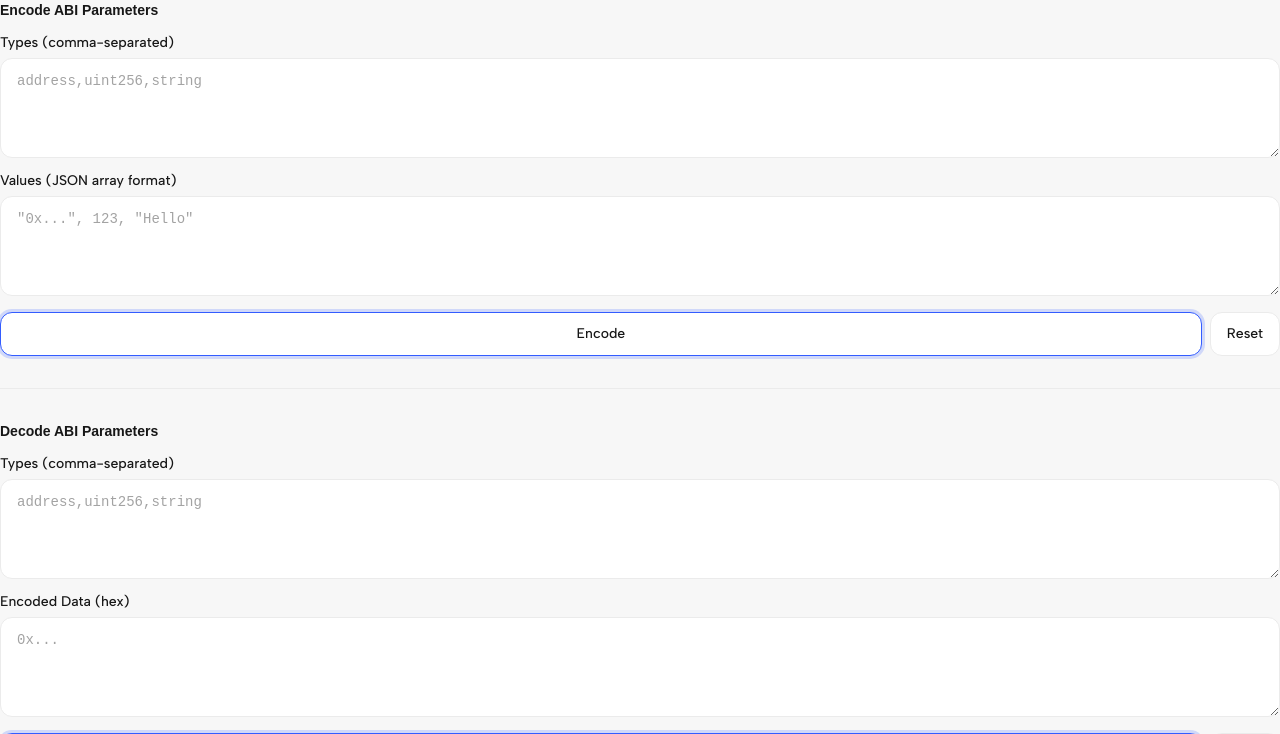
Test: AbiEncoderTool › encodes ABI parameters
Type "address,uint256" into the text box with placeholder "address,uint256,string" below "Encode ABI Parameters". click: (640, 108)
box: x1=0 y1=58 x2=1279 y2=158
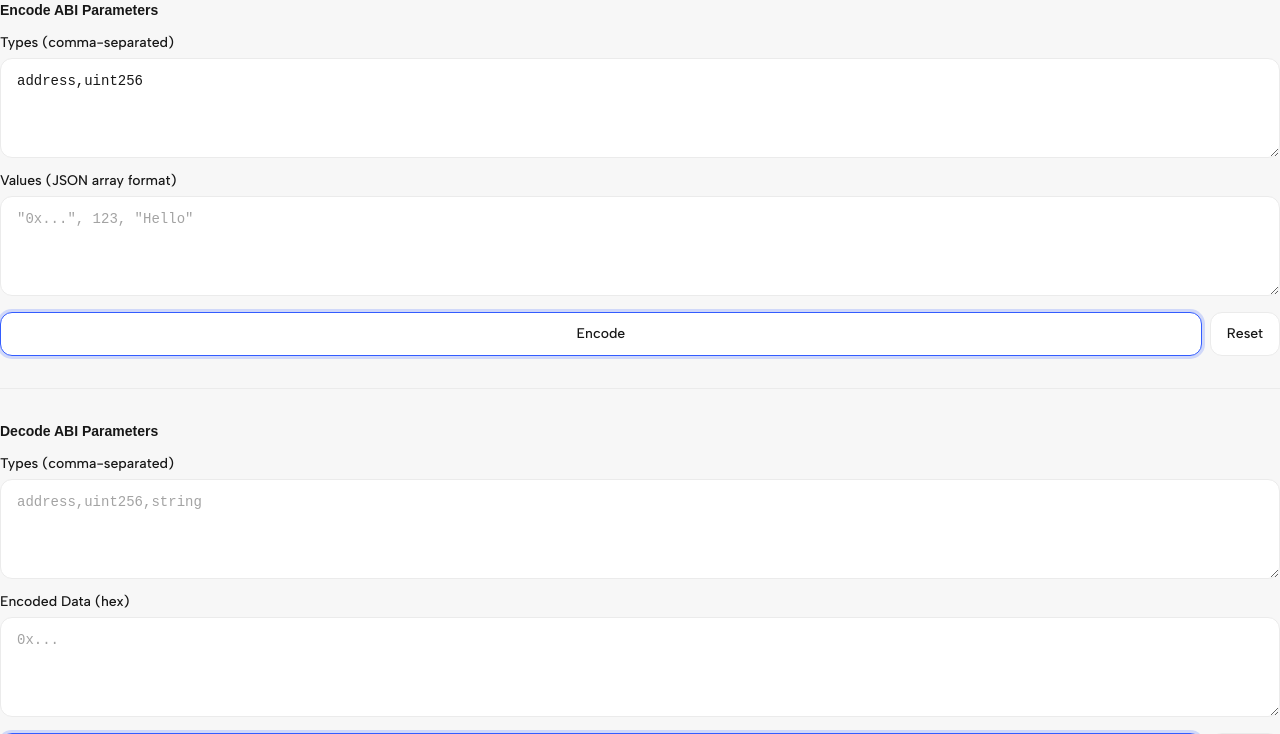
Type "\"0x1234567890123456789012345678901234567890\", 1000" into the text box with placeholder "\"0x...\", 123, \"Hello\"". click: (640, 246)
box: x1=0 y1=196 x2=1279 y2=296
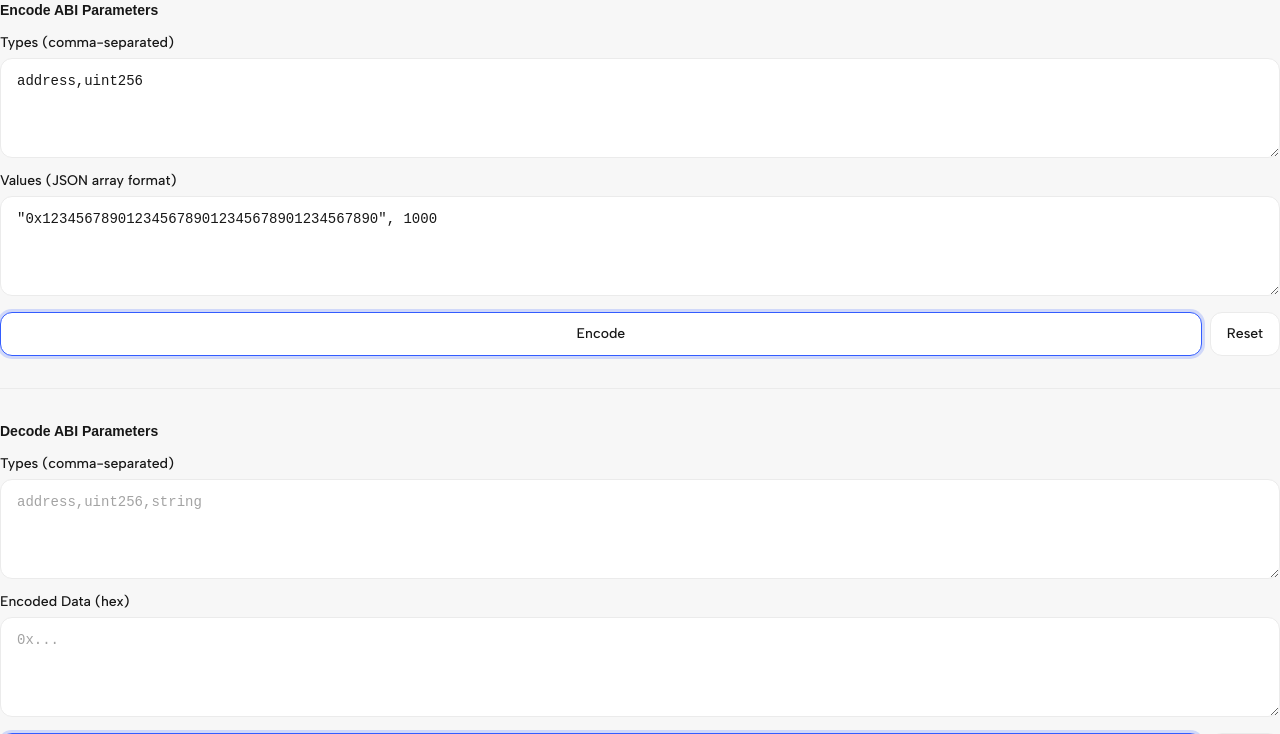
Click the button "Encode". click: (601, 334)
box: x1=0 y1=312 x2=1202 y2=356
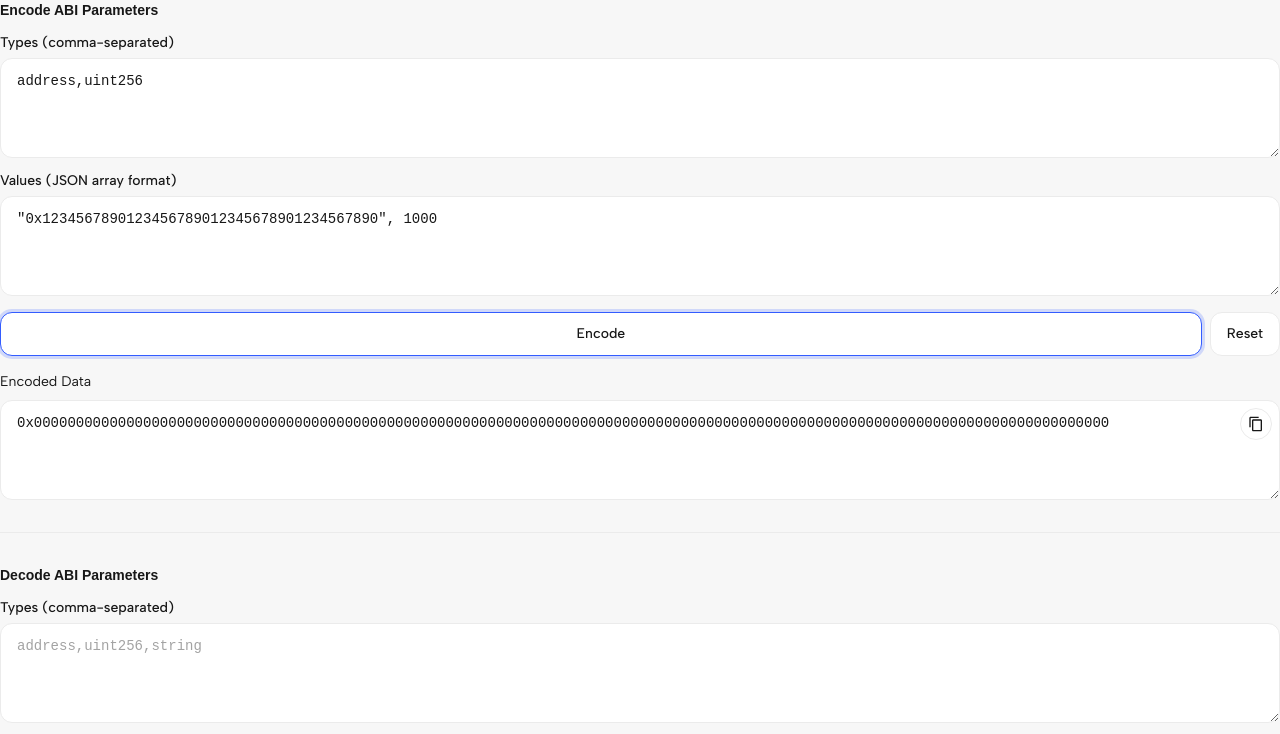
Check: the text "Encoded Data" is shown, box x1=0 y1=373 x2=91 y2=390
